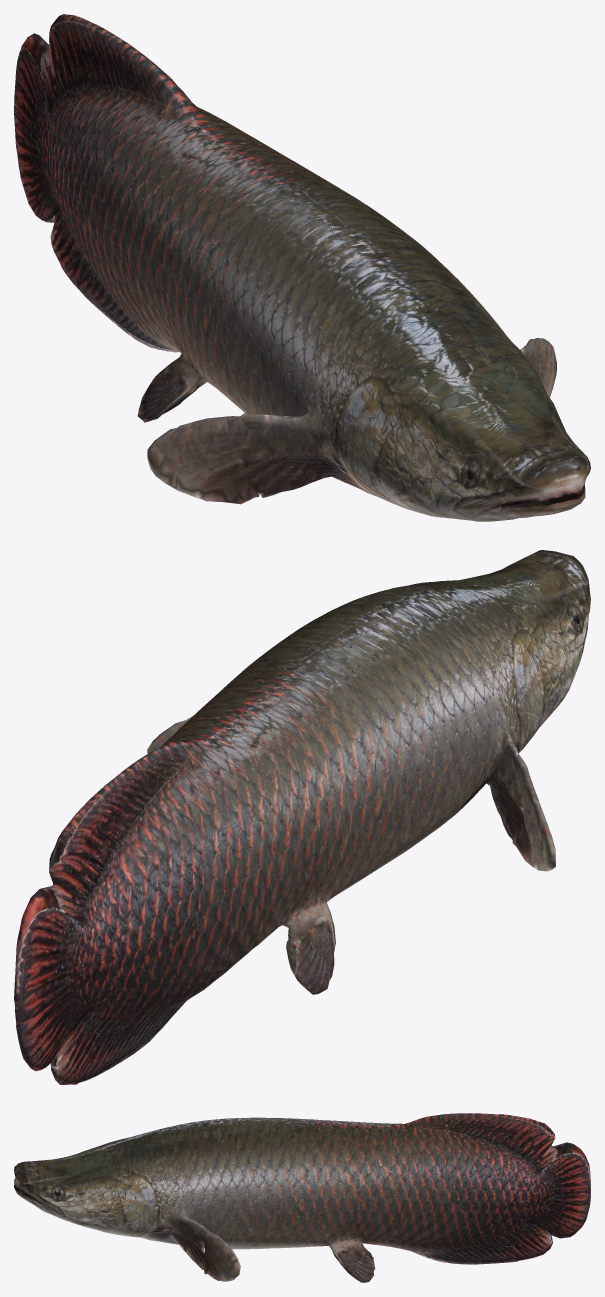
The model's file is fish_arapaima.glb.
The picture shows the model from 3 angles, top to bottom: view 1: azimuth 30°, elevation 25°; view 2: azimuth 150°, elevation 25°; view 3: azimuth 270°, elevation 25°; orthographic projection. The views are drawn at different scales.
Visible parts, largest first — view 1: geometry_0; view 2: geometry_0; view 3: geometry_0.
Boxes of the visible parts, box(x1,y1,x2,y2) form: geometry_0: box(14, 14, 590, 521); geometry_0: box(14, 550, 590, 1084); geometry_0: box(14, 1113, 590, 1282).
Size of the model in its own units: 0.8406 by 0.5665 by 1.96.
1 material, 1 textured.
